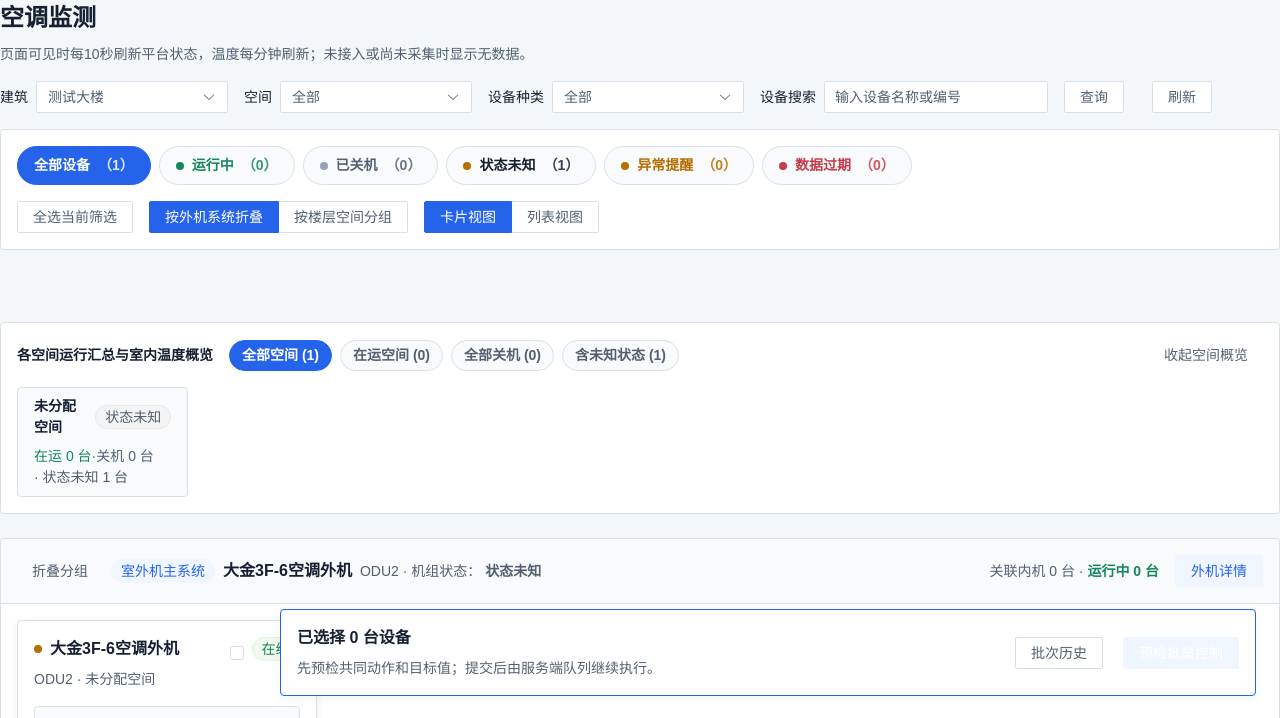
Test: DaikinMonitoringPanel › 外机压缩机按字段自身新鲜度统一卡片、计数与筛选 stale=true
Expected: the 1st element with class "dot-unknown" is shown, left=463, top=162, right=471, bottom=170
Click the button with class "status-pill" showing "已关机 （0）" at x=370, y=166, box left=303, top=146, right=438, bottom=185
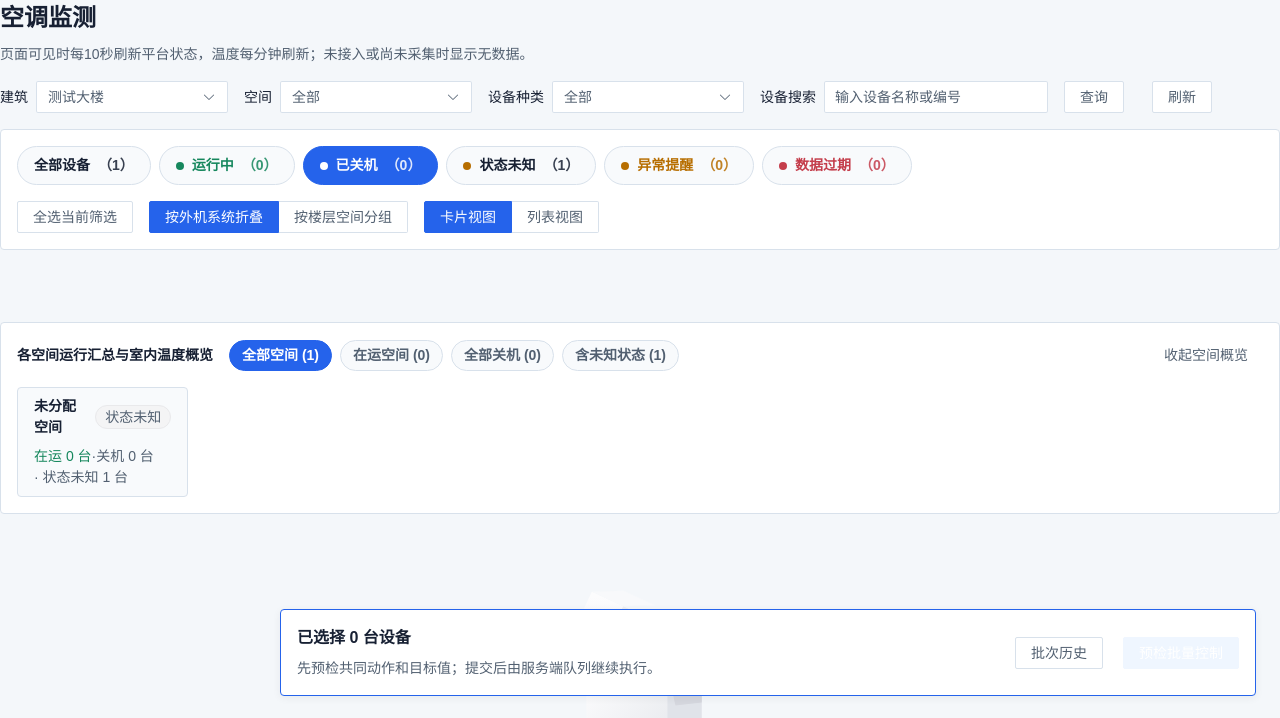
Expected: no elements with class "device-card" are shown
